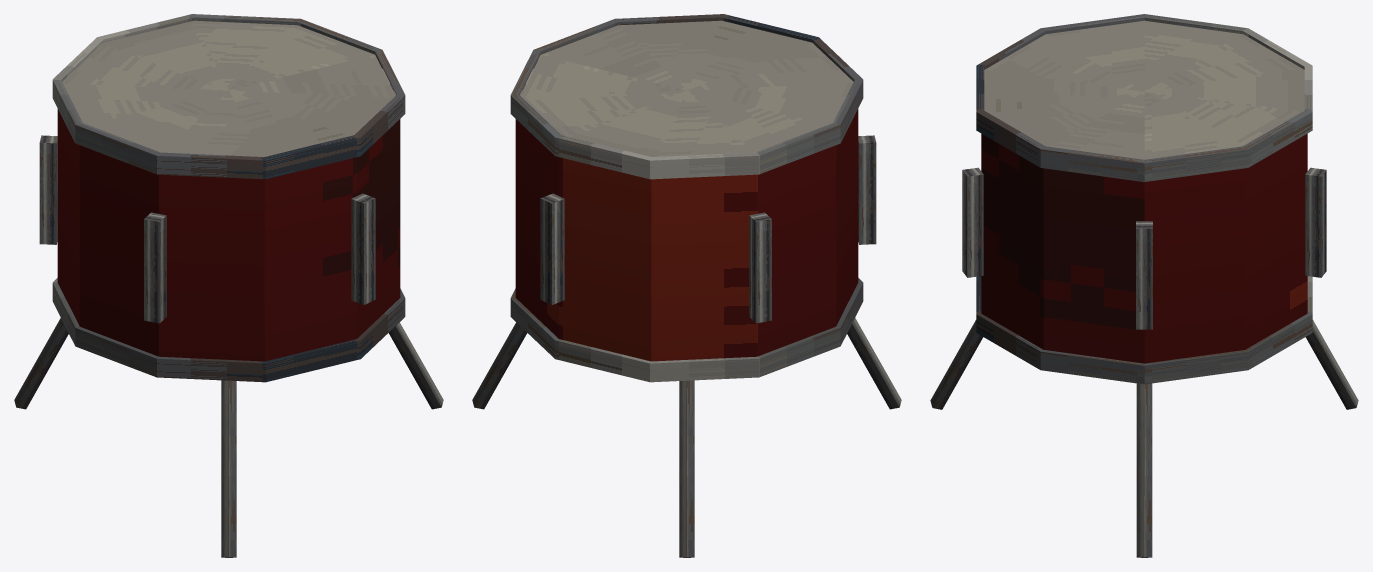
Rendered from prop_drum.glb.
3 views of the same model, side by side, from view 1: azimuth 30°, elevation 25°; view 2: azimuth 150°, elevation 25°; view 3: azimuth 270°, elevation 25° (orthographic).
Visible parts, largest first — view 1: prop_drum; view 2: prop_drum; view 3: prop_drum.
Boxes of the visible parts, left/top/right/bottom form: prop_drum: left=14, top=14, right=443, bottom=557; prop_drum: left=472, top=14, right=901, bottom=557; prop_drum: left=930, top=14, right=1358, bottom=557.
Bounding box in the file's own units: 0.494 × 0.4762 × 0.4988.
3 materials, 3 textured.
